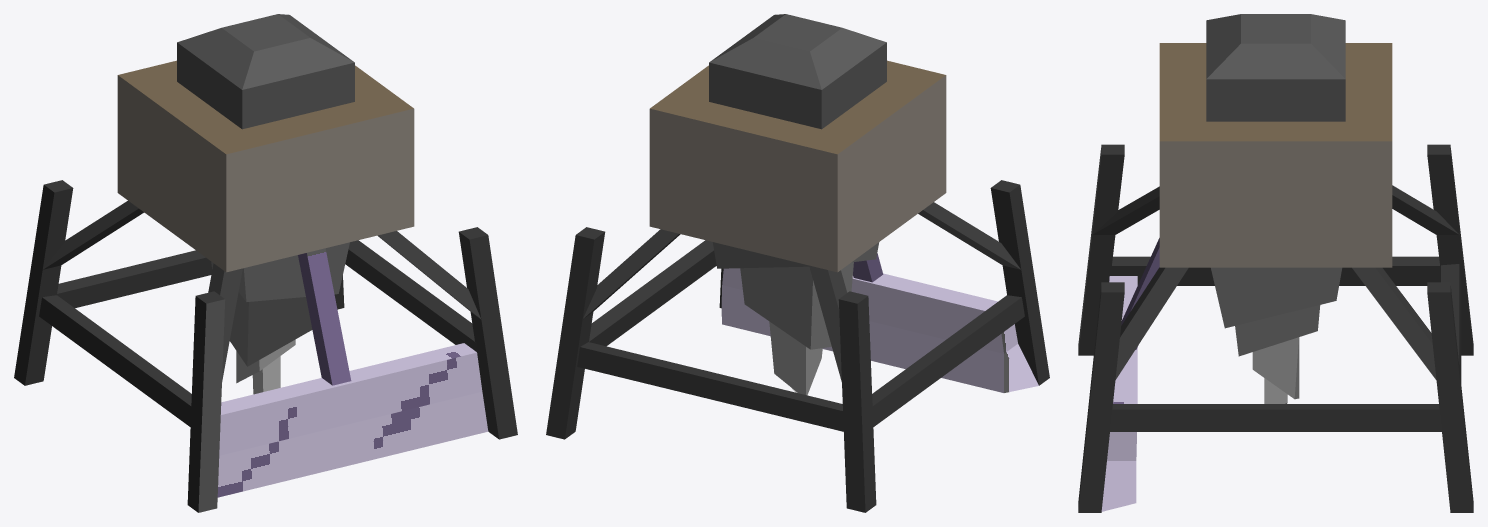
The model's file is drill.gltf.
3 renders of one model, left to right at view 1: azimuth 30°, elevation 25°; view 2: azimuth 150°, elevation 25°; view 3: azimuth 270°, elevation 25°, orthographic. The views are drawn at different scales.
Visible parts, largest first — view 1: mesh (×17); view 2: mesh (×16); view 3: mesh (×18).
Part boxes in pixels (box(x1,y1,x2,y2)): mesh (×17): box(14, 14, 517, 512); mesh (×16): box(546, 14, 1049, 512); mesh (×18): box(1078, 14, 1473, 512).
Bounding box in the file's own units: 0.5313 × 0.5938 × 0.5312.
Materials: 3 (3 with a texture image).
